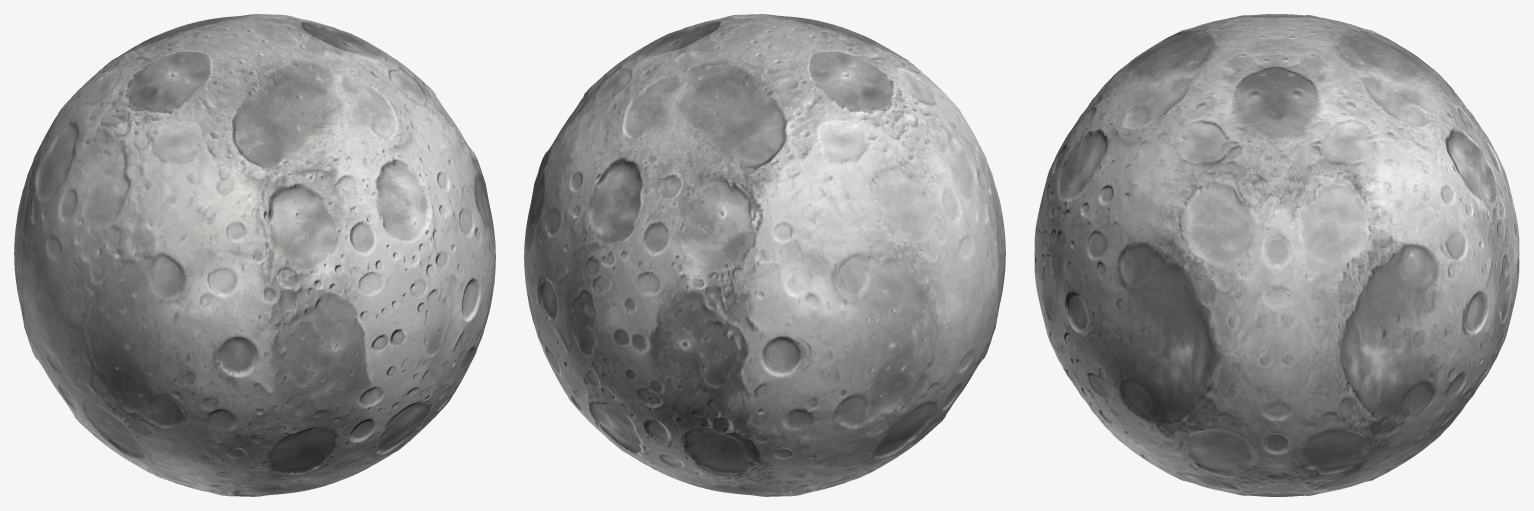
File: fake moon.glb
The picture shows the model from 3 angles, left to right: view 1: azimuth 30°, elevation 25°; view 2: azimuth 150°, elevation 25°; view 3: azimuth 270°, elevation 25°; orthographic projection.
Size of the model in its own units: 1.9 by 1.9 by 1.9.
Materials: 1 (1 with a texture image).
